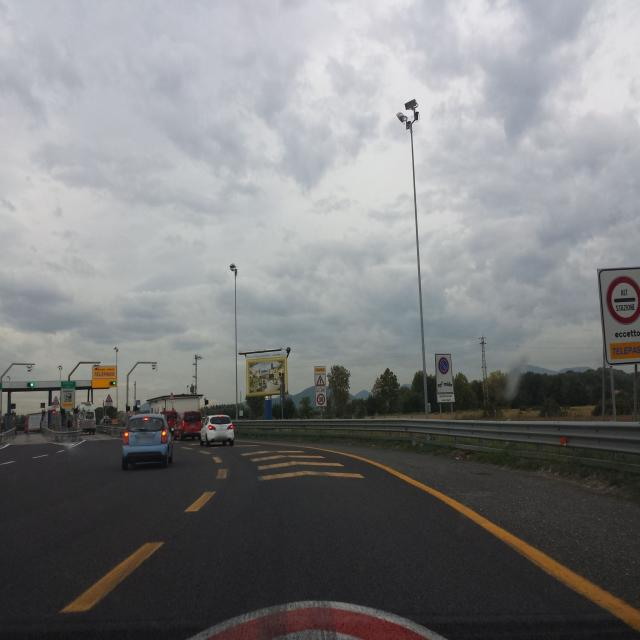forb_stopping: (438, 357, 448, 375)
